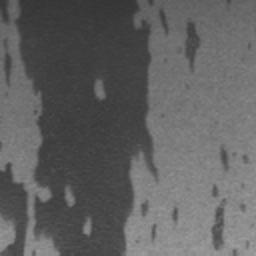Red iron sheet: (0, 0, 169, 256), (211, 186, 228, 250), (184, 20, 201, 73), (220, 145, 228, 168), (150, 223, 156, 238), (173, 207, 179, 220), (241, 202, 247, 211), (225, 0, 233, 6)
